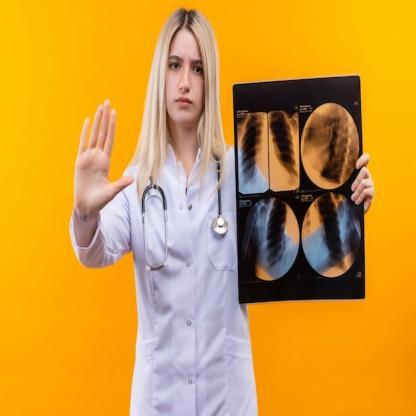stop: (72, 96, 136, 217)
